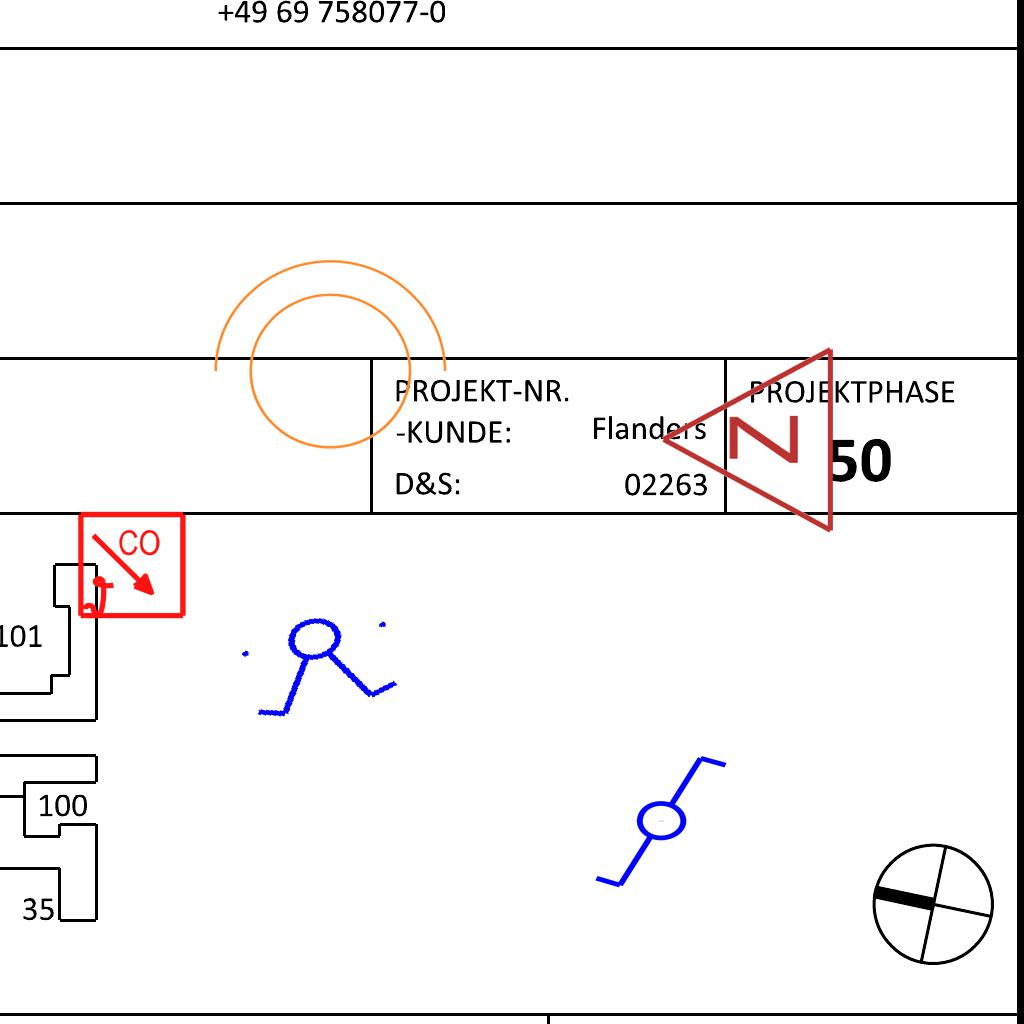ROA_Rauchmelder_optisch_mit_Signalgeber_(Sockelsirene): (76, 510, 189, 623)
Scheinwerfer_fuer_Alarmbeleuchtung: (192, 249, 456, 474)
Serienschalter: (228, 599, 414, 729)
Wechselschalter: (591, 751, 748, 895)
Zimmersignalleuchte: (648, 344, 848, 540)
